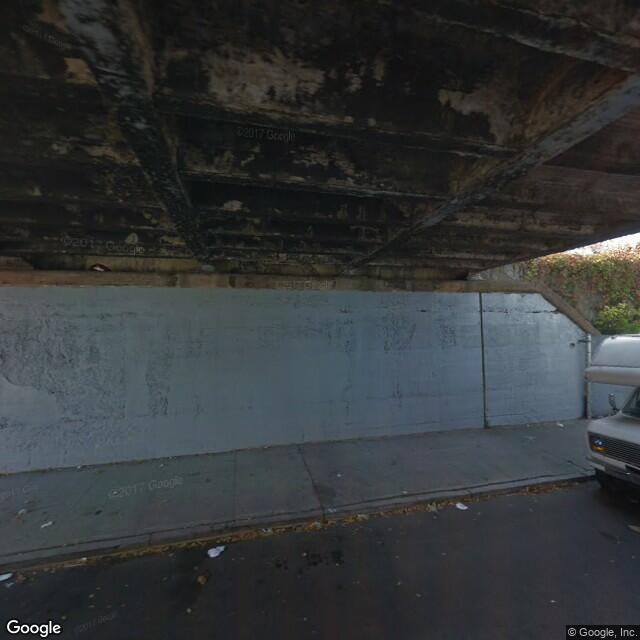litter: (206, 544, 228, 557), (1, 569, 14, 589), (39, 520, 58, 532), (196, 575, 214, 583), (453, 501, 466, 508), (78, 555, 89, 561), (401, 490, 408, 497), (335, 471, 341, 479), (555, 424, 564, 429)
